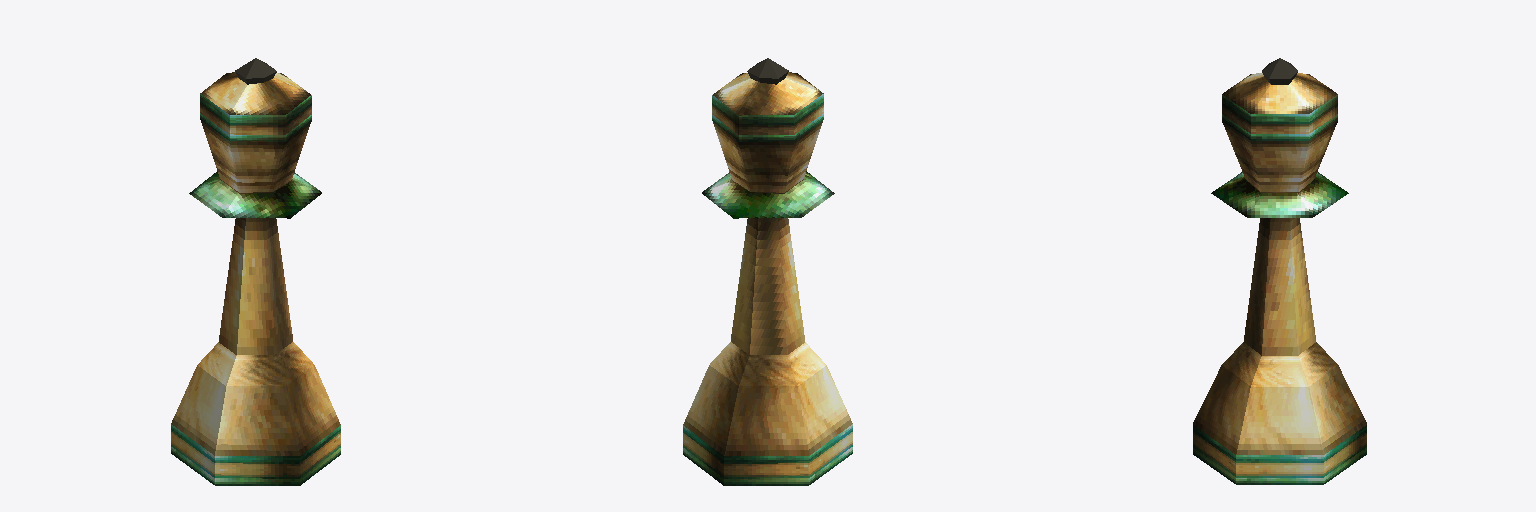
3 renders of one model, left to right at view 1: azimuth 30°, elevation 25°; view 2: azimuth 150°, elevation 25°; view 3: azimuth 270°, elevation 25°, orthographic.
Visible parts, largest first — view 1: Mesh3 Group4 Group1 Model, Mesh2 Group3 Group1 Model, Mesh4 Group5 Group1 Model, Mesh1 Group2 Group1 Model; view 2: Mesh3 Group4 Group1 Model, Mesh2 Group3 Group1 Model, Mesh4 Group5 Group1 Model, Mesh1 Group2 Group1 Model; view 3: Mesh3 Group4 Group1 Model, Mesh2 Group3 Group1 Model, Mesh4 Group5 Group1 Model, Mesh1 Group2 Group1 Model.
Part boxes in pixels (left/top/right/bottom): Mesh3 Group4 Group1 Model: left=171, top=218, right=340, bottom=485; Mesh2 Group3 Group1 Model: left=200, top=72, right=311, bottom=193; Mesh4 Group5 Group1 Model: left=189, top=171, right=321, bottom=218; Mesh1 Group2 Group1 Model: left=235, top=58, right=276, bottom=84; Mesh3 Group4 Group1 Model: left=683, top=218, right=852, bottom=485; Mesh2 Group3 Group1 Model: left=712, top=72, right=823, bottom=193; Mesh4 Group5 Group1 Model: left=702, top=171, right=834, bottom=218; Mesh1 Group2 Group1 Model: left=747, top=58, right=788, bottom=84; Mesh3 Group4 Group1 Model: left=1193, top=218, right=1366, bottom=484; Mesh2 Group3 Group1 Model: left=1222, top=73, right=1337, bottom=193; Mesh4 Group5 Group1 Model: left=1211, top=172, right=1348, bottom=217; Mesh1 Group2 Group1 Model: left=1262, top=58, right=1297, bottom=84.
Bounding box in the file's own units: 1.89 × 5.67 × 2.27.
9 materials, 7 textured.